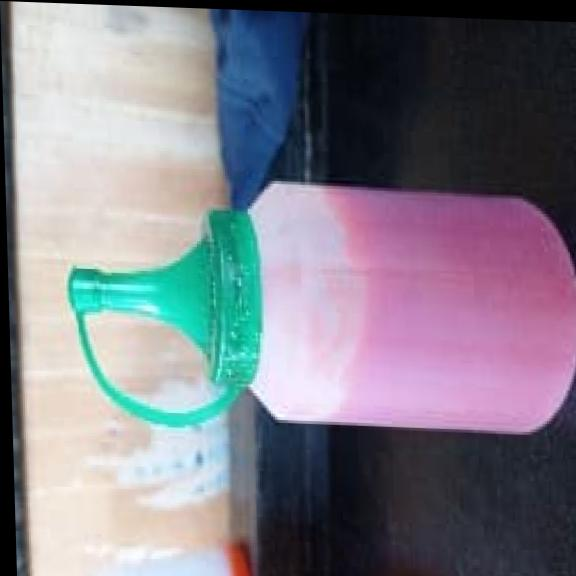Plastik: (68, 182, 576, 430)
